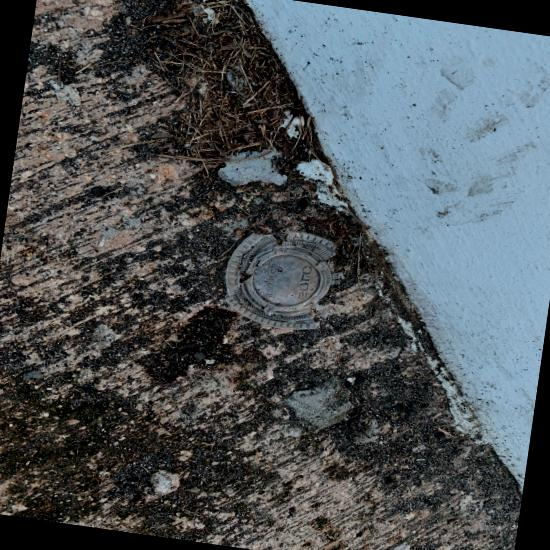Cigarette: (43, 288, 54, 296), (118, 274, 125, 281), (26, 304, 30, 312), (89, 263, 96, 266), (59, 66, 65, 69), (179, 220, 185, 222)
Drink can: (132, 213, 167, 233)
Unlabeled litter: (235, 286, 243, 292)
